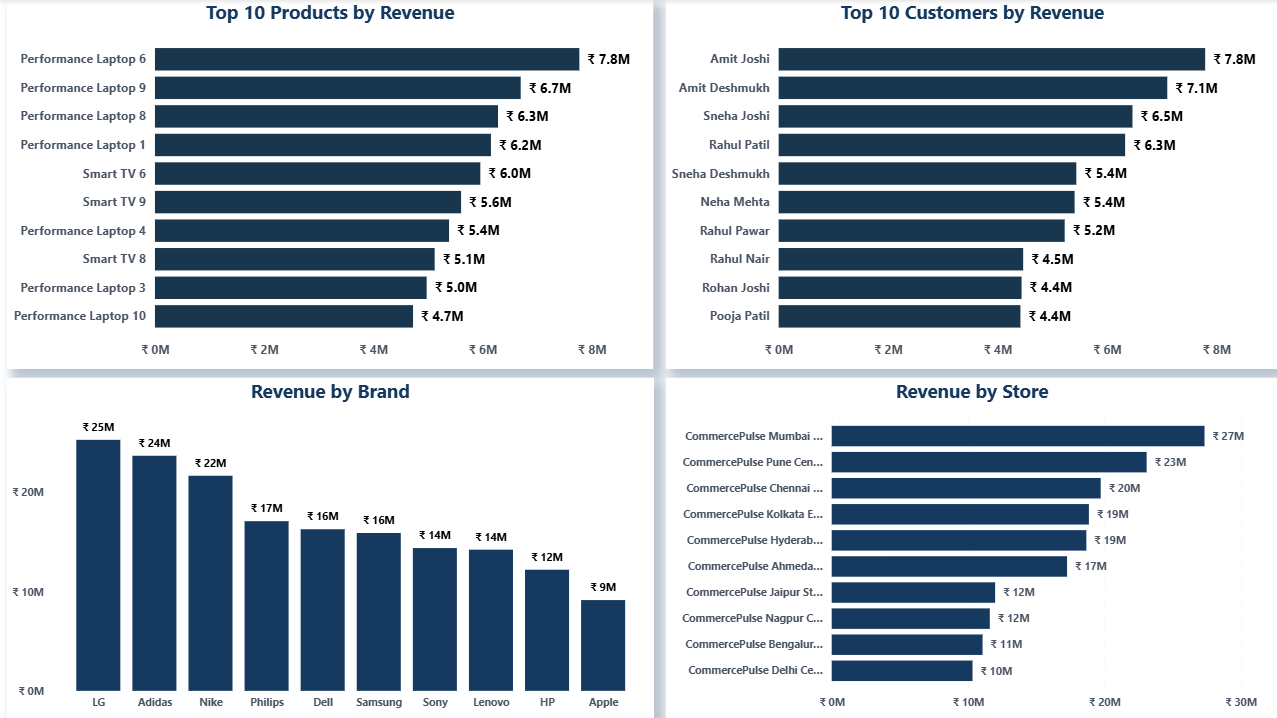

The page's visual inventory and layout, read from the dashboard file:
{"tool":"powerbi","page":{"name":"Product & Customer Analysis","canvas":[1280,720],"ordinal":1},"visuals":[{"type":"clusteredBarChart","title":"Top 10 Products by Revenue","fields":{"Category":["DimProduct.ProductName"],"Y":["FactSales.Total Revenue"]},"box":[9.8,0,645.7,369.3],"z":0},{"type":"clusteredBarChart","title":"Top 10 Customers by Revenue","fields":{"Category":["DimCustomer.CustomerName"],"Y":["FactSales.Total Revenue"]},"box":[667.7,0,612.6,369.3],"z":1000},{"type":"clusteredColumnChart","title":"Revenue by Brand","fields":{"Category":["DimProduct.Brand"],"Y":["FactSales.Total Revenue"]},"box":[10,379,646,341],"z":2000},{"type":"clusteredBarChart","title":" Revenue by Store ","fields":{"Category":["DimStore.StoreName"],"Y":["FactSales.Total Revenue"]},"box":[668,379,612,341],"z":3000}]}

Visuals, with their boxes in screenshot pixels (x1, y1, x2, y2), scaled from the page's 1280x720 canvas onto the 1277x718 screenshot:
"Top 10 Products by Revenue" clusteredBarChart: box=[10, 0, 654, 368]
"Top 10 Customers by Revenue" clusteredBarChart: box=[666, 0, 1276, 368]
"Revenue by Brand" clusteredColumnChart: box=[10, 378, 654, 717]
" Revenue by Store " clusteredBarChart: box=[666, 378, 1276, 717]
